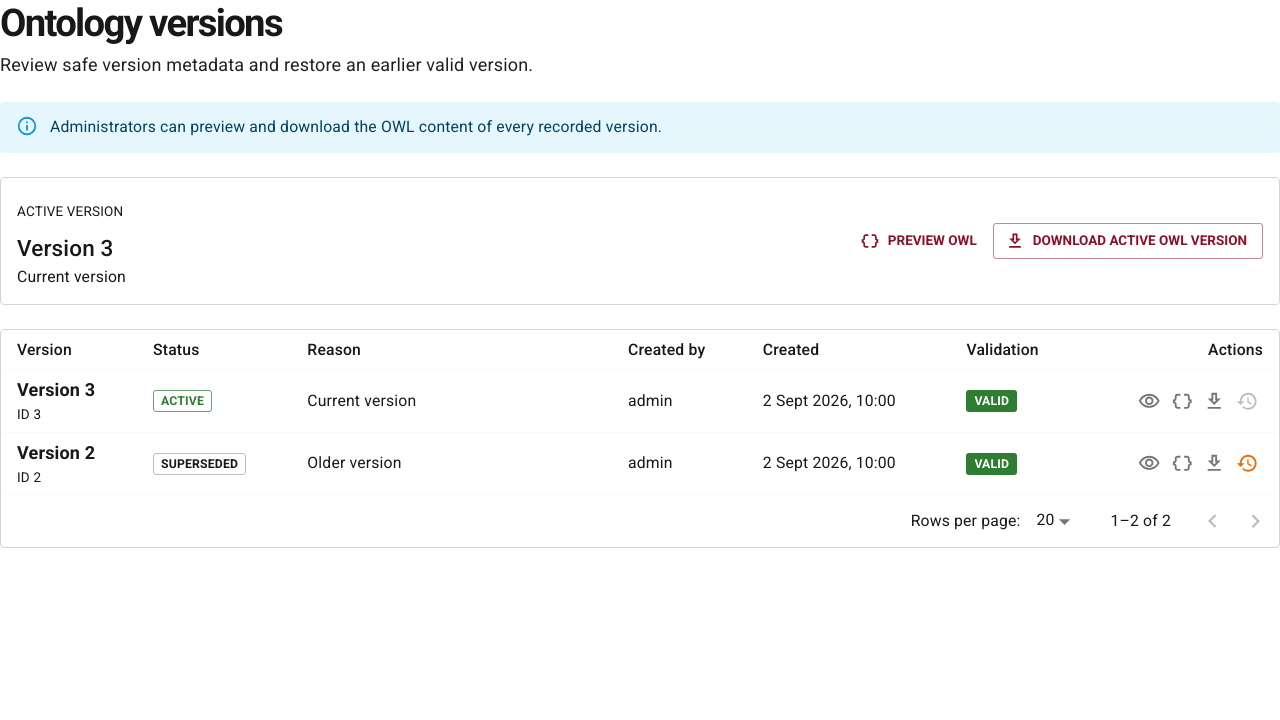
Test: OntologyVersionsPage › loads OWL content only when preview is requested
The image size is (1280, 720).
Expected: the text "Older version" is shown, [307,453,402,472]
Click the button named "Preview OWL" in the row of "Version 2" at coordinates (1182, 463), box [1166,447,1198,480]
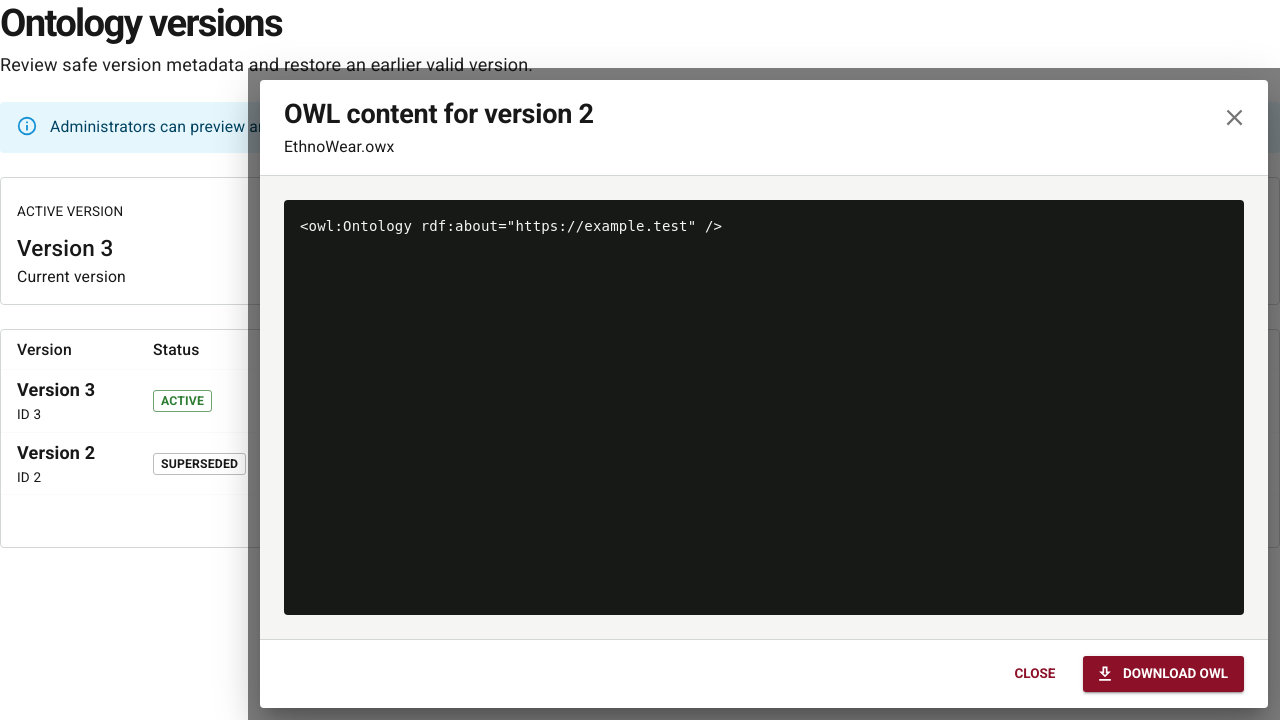
Now the text "<owl:Ontology rdf:about=\"https://example.test\" />" is shown, box [284,200,1244,615]
Now the element that starts with "OWL content for version 2" is shown
